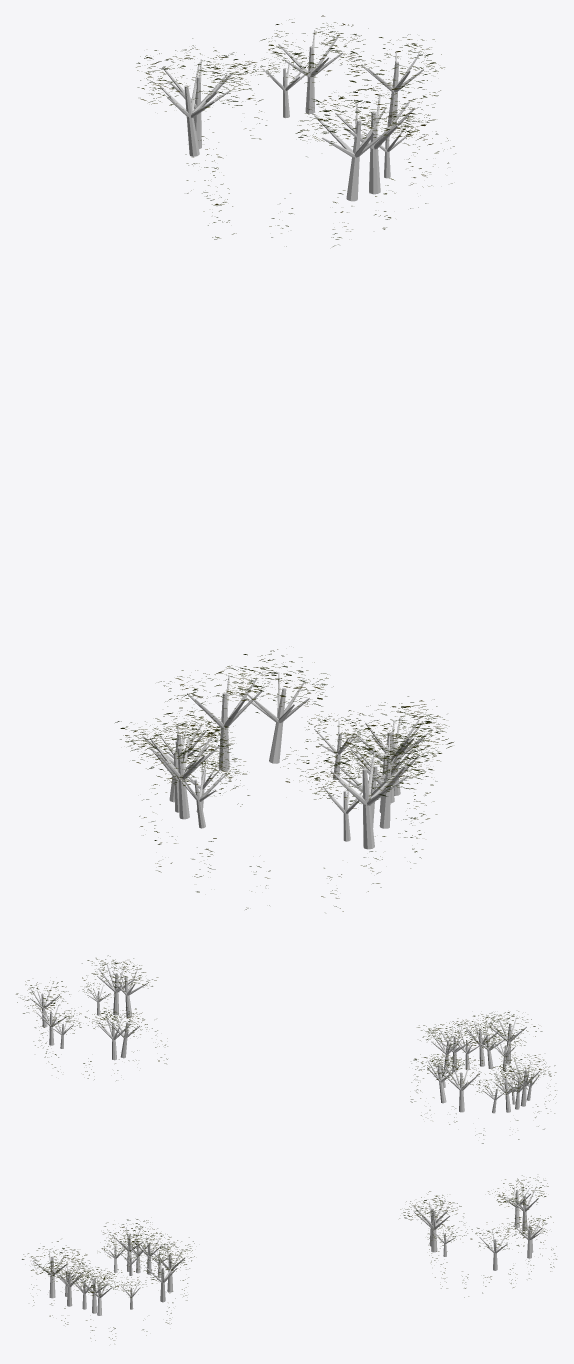
The model's file is refined-groves-v24.glb.
3 renders of one model, top to bottom at view 1: azimuth 30°, elevation 25°; view 2: azimuth 150°, elevation 25°; view 3: azimuth 270°, elevation 25°, orthographic. The views are drawn at different scales.
Parts seen in each view (by area): view 1: Sky garden trees, Sky garden canopy, Observatory trees, Observatory canopy; view 2: Sky garden trees, Observatory trees, Sky garden canopy, Observatory canopy; view 3: Sky garden trees, Sky garden canopy, Observatory trees, Observatory canopy.
Boxes of the visible parts, x1,y1,x2,y2 form: Sky garden trees: (142,672,427,849); Sky garden canopy: (115,649,453,911); Observatory trees: (160,30,423,201); Observatory canopy: (136,15,455,246); Sky garden trees: (427,1017,540,1113); Observatory trees: (30,963,147,1060); Sky garden canopy: (410,1011,556,1143); Observatory canopy: (16,955,167,1080); Sky garden trees: (32,1227,185,1315); Sky garden canopy: (22,1219,194,1340); Observatory trees: (413,1186,542,1270); Observatory canopy: (399,1175,556,1297).
Size of the model in its own units: 37.5 by 22.74 by 52.53.
